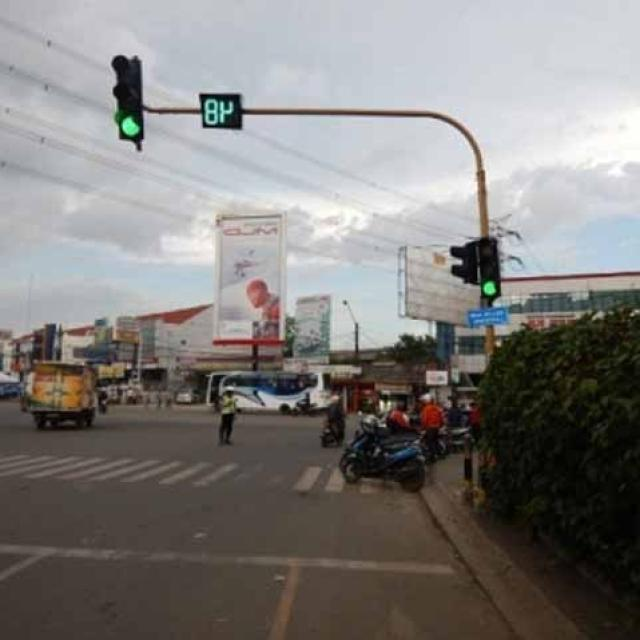green_light: (93, 40, 170, 178), (462, 227, 523, 345), (187, 65, 249, 172)
